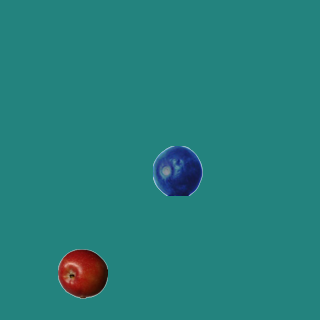Apple Braeburn: (57, 248, 107, 298)
Huckleberry: (152, 145, 202, 195)
